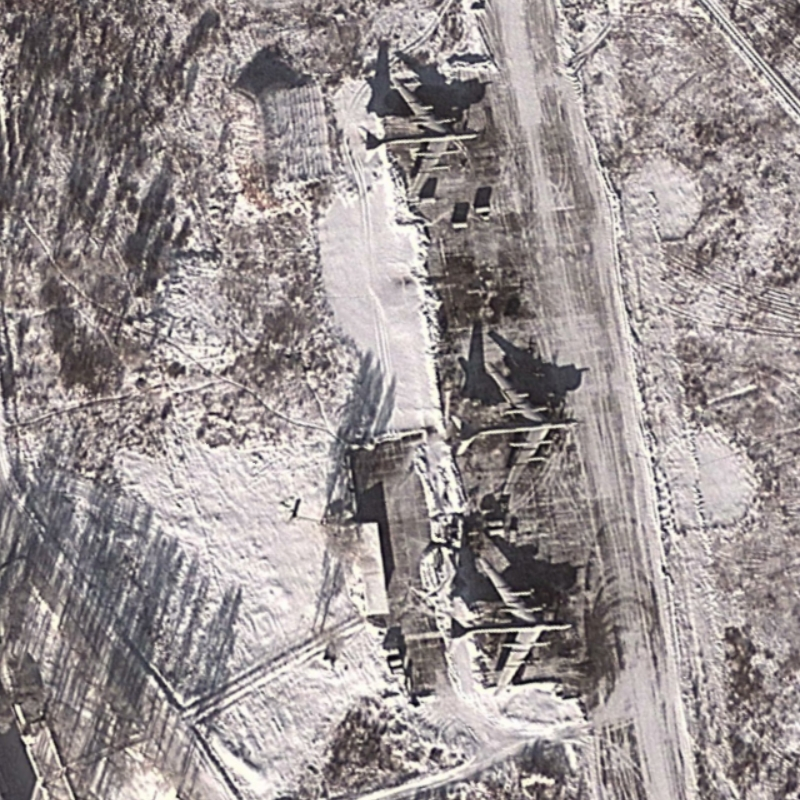A17: (443, 555, 576, 700), (449, 360, 581, 499), (354, 75, 482, 200)
